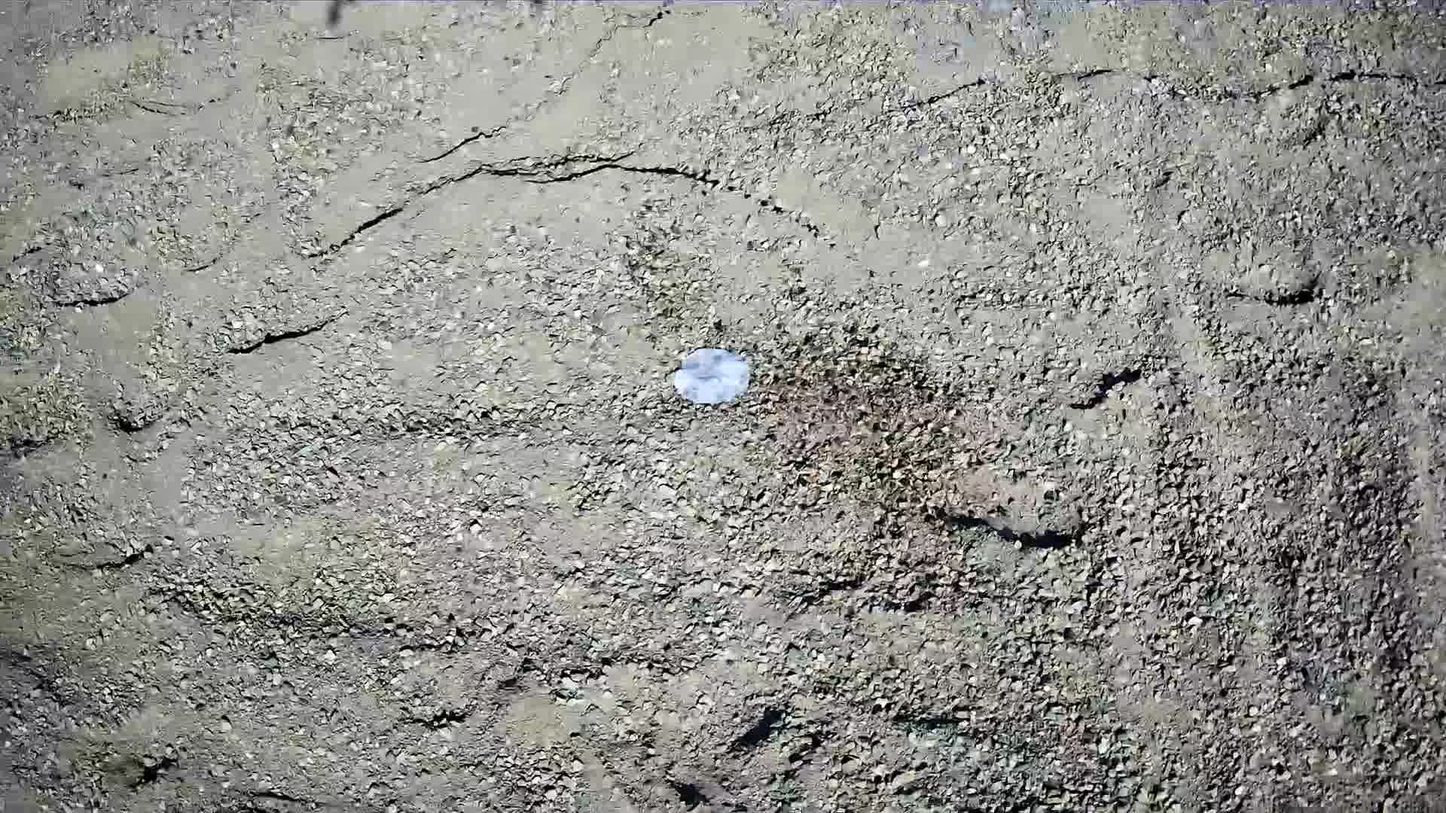Target: (673, 349, 752, 405)
